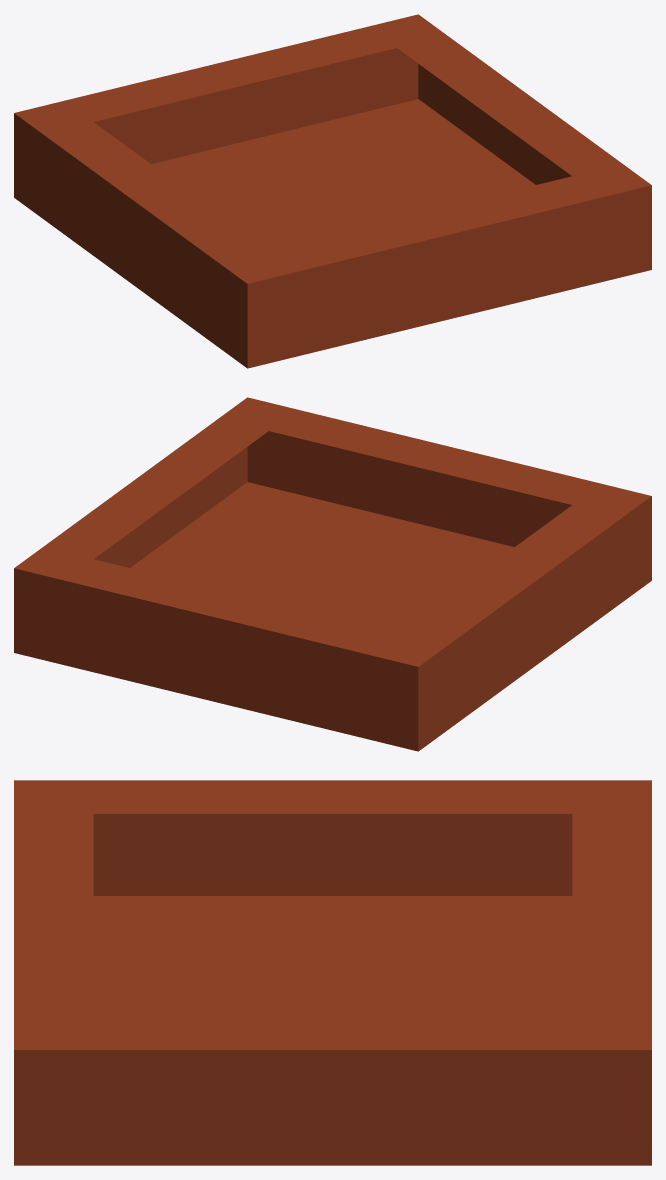
The model's file is baseBotao.fbx.
3 renders of one model, top to bottom at view 1: azimuth 30°, elevation 25°; view 2: azimuth 150°, elevation 25°; view 3: azimuth 270°, elevation 25°, orthographic. The views are drawn at different scales.
Visible parts, largest first — view 1: pCube1; view 2: pCube1; view 3: pCube1.
Boxes of the visible parts, box(x1,y1,x2,y2) form: pCube1: box(14, 14, 651, 368); pCube1: box(14, 397, 651, 751); pCube1: box(14, 780, 651, 1165).
Size of the model in its own units: 100 by 20 by 100.
